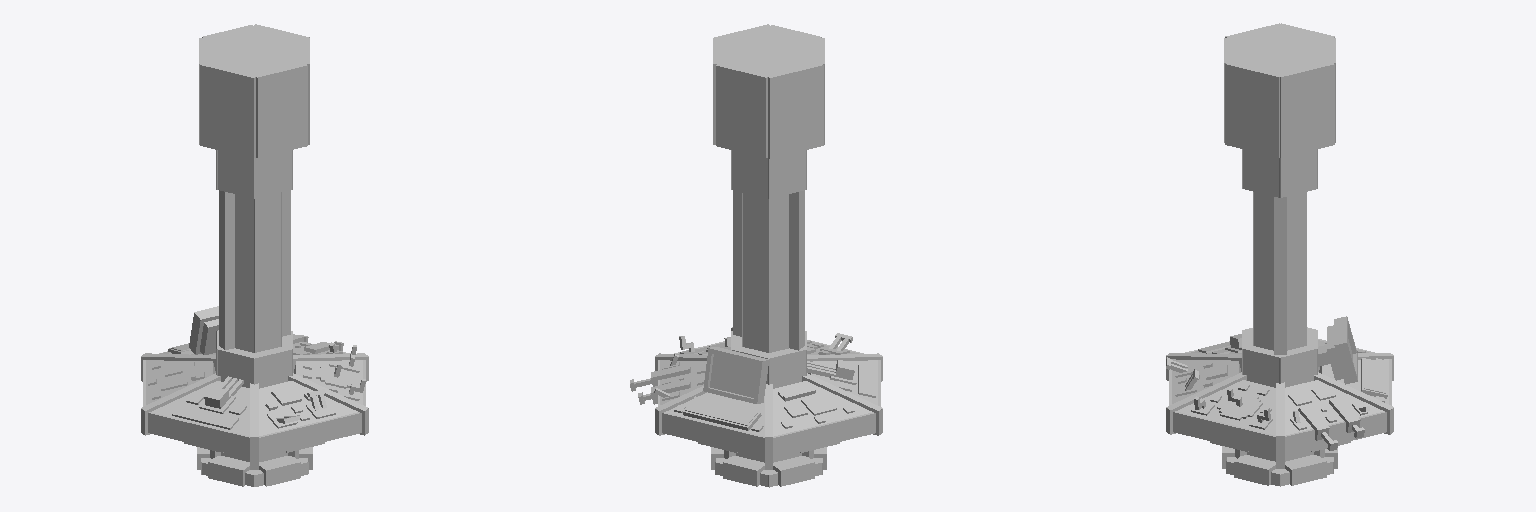
The model's file is clockwork_console.obj.
3 views of the same model, side by side, from view 1: azimuth 30°, elevation 25°; view 2: azimuth 150°, elevation 25°; view 3: azimuth 270°, elevation 25° (orthographic).
Parts seen in each view (by area): view 1: Techwork_Console; view 2: Techwork_Console; view 3: Techwork_Console.
Boxes of the visible parts, <box> form: Techwork_Console: <box>141,24,368,486</box>; Techwork_Console: <box>630,24,882,487</box>; Techwork_Console: <box>1166,23,1393,486</box>.
Size of the model in its own units: 7.33 by 12.69 by 6.42.